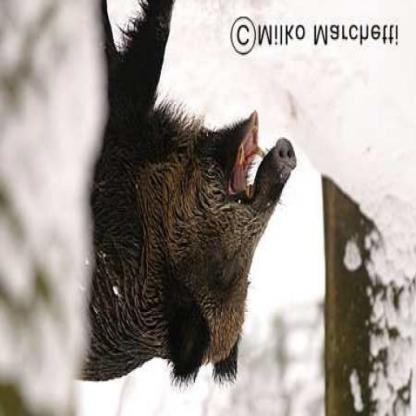boar: (40, 1, 314, 394)
